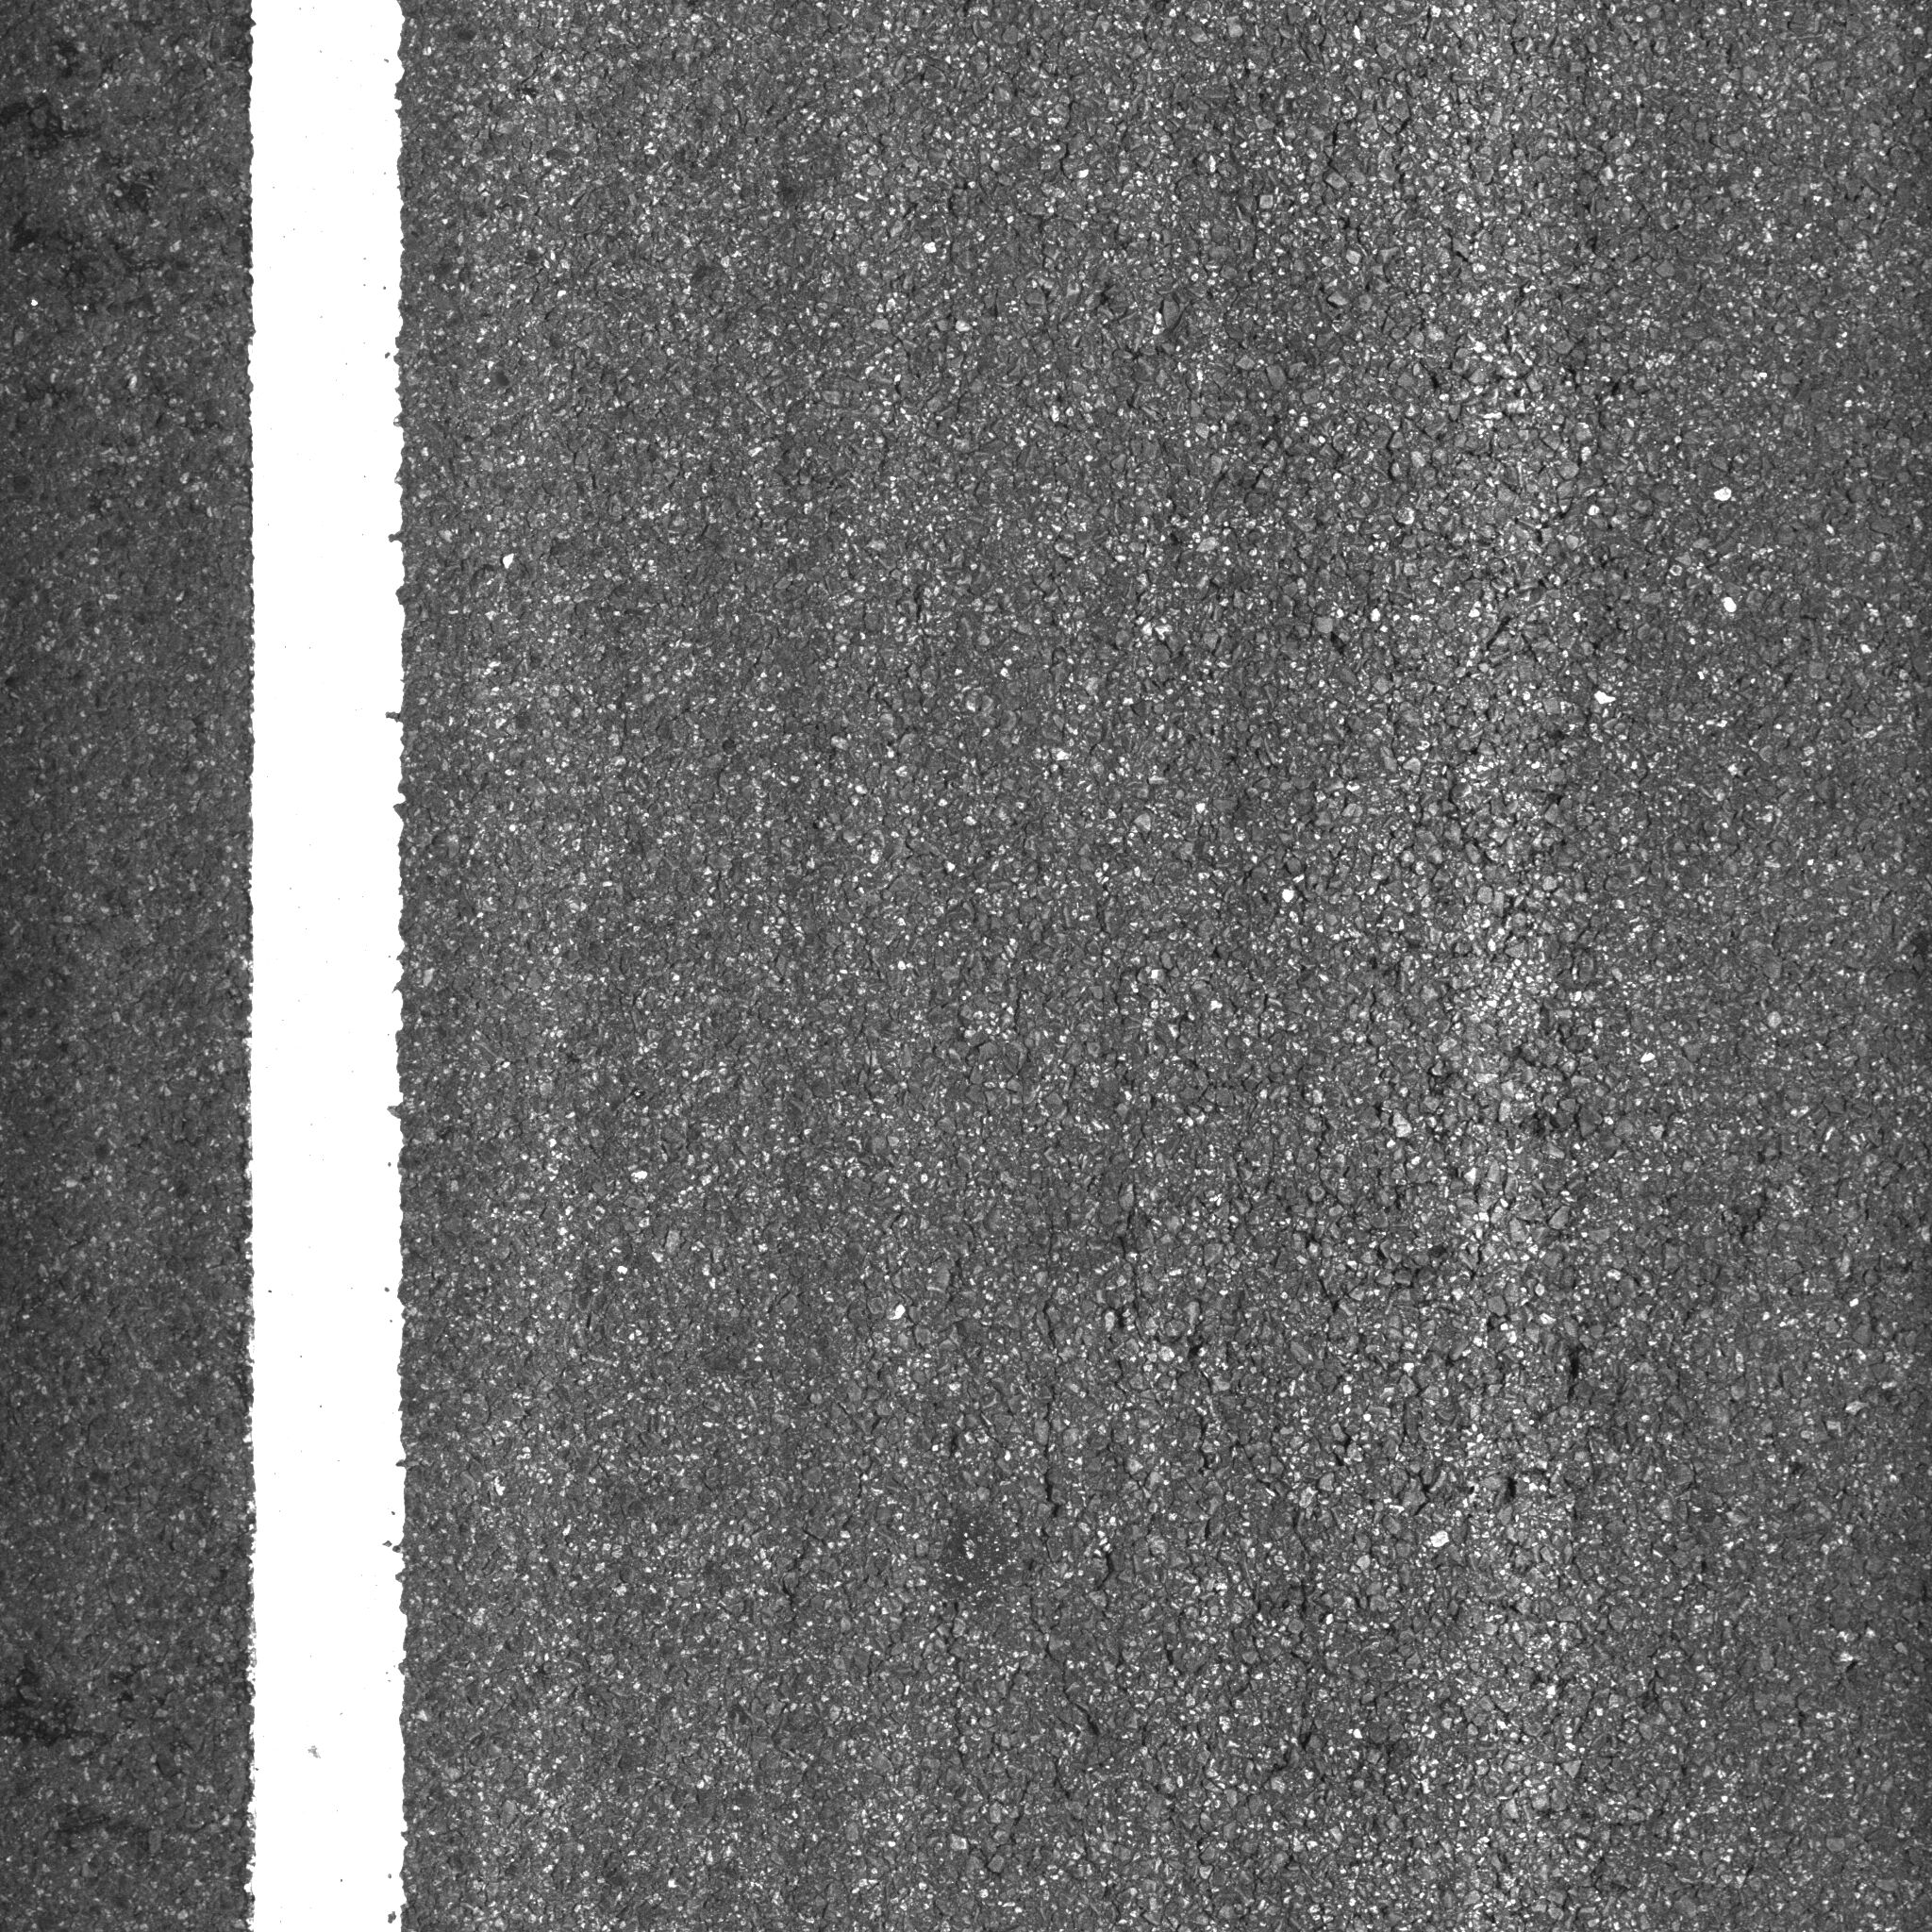alligator: (961, 881, 1932, 1684)
